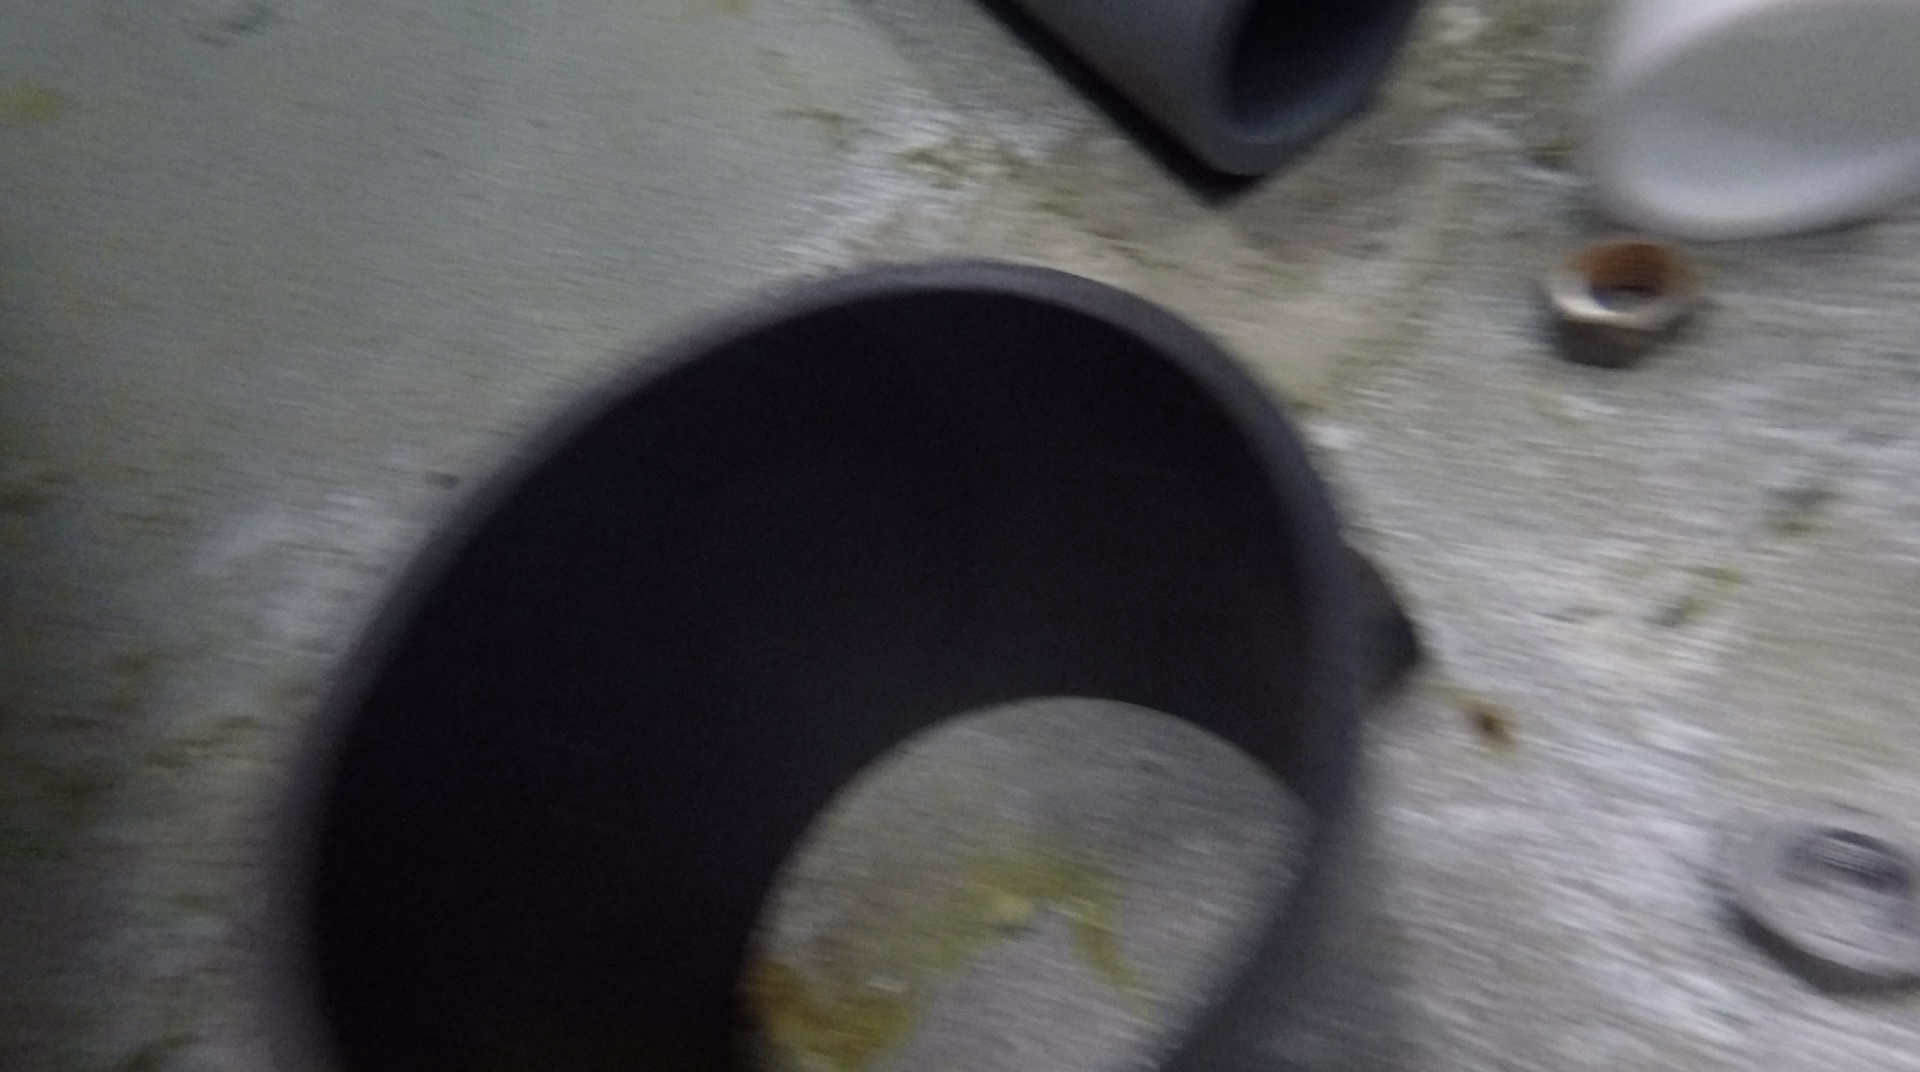nut: (1727, 796, 1920, 1005), (1543, 236, 1698, 367)
pipe: (253, 258, 1366, 1072), (1581, 1, 1920, 245), (1000, 1, 1424, 181)
